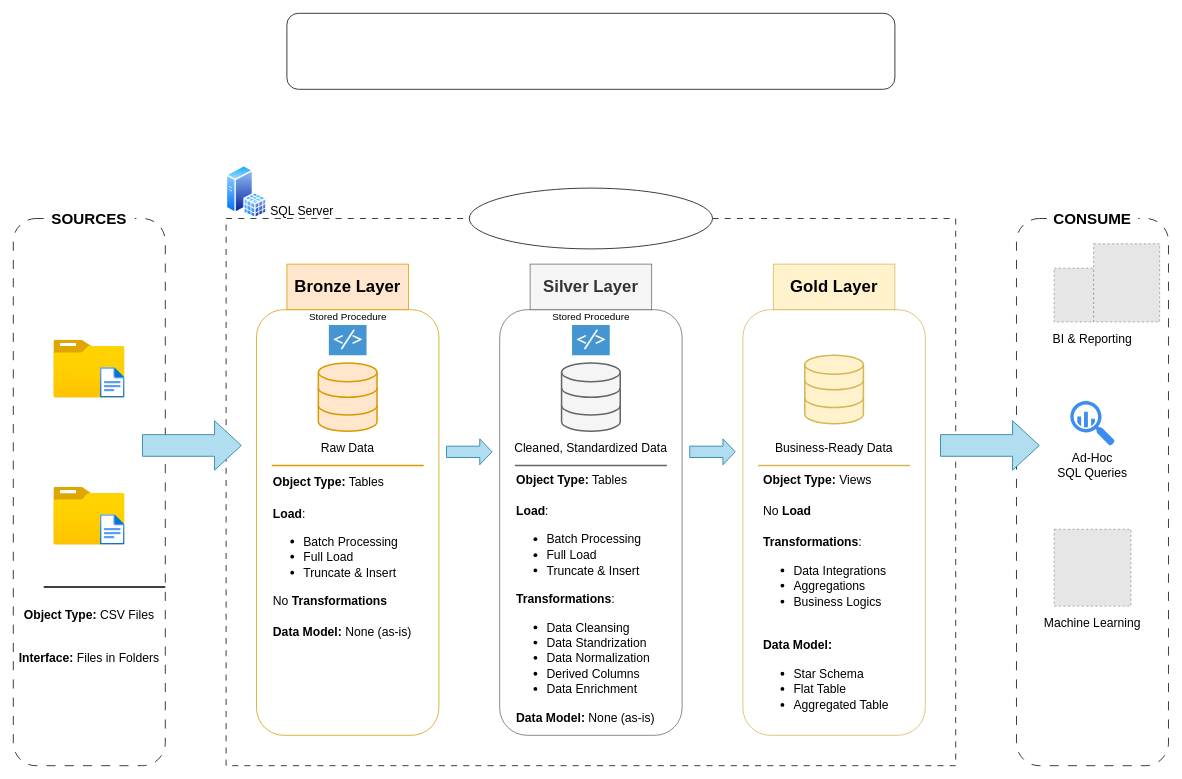
The diagram is 1182 pixels wide and 779 high, and some of its shapes have lost their labels. Grey dashed boxes stand in for pictures. The shapes that lost their labels are listed below. From the top down, each one's centre as x and y in pixels, then its label:
At point 590,51: "Data Architecture".
At point 590,218: "Data Warehouse".
